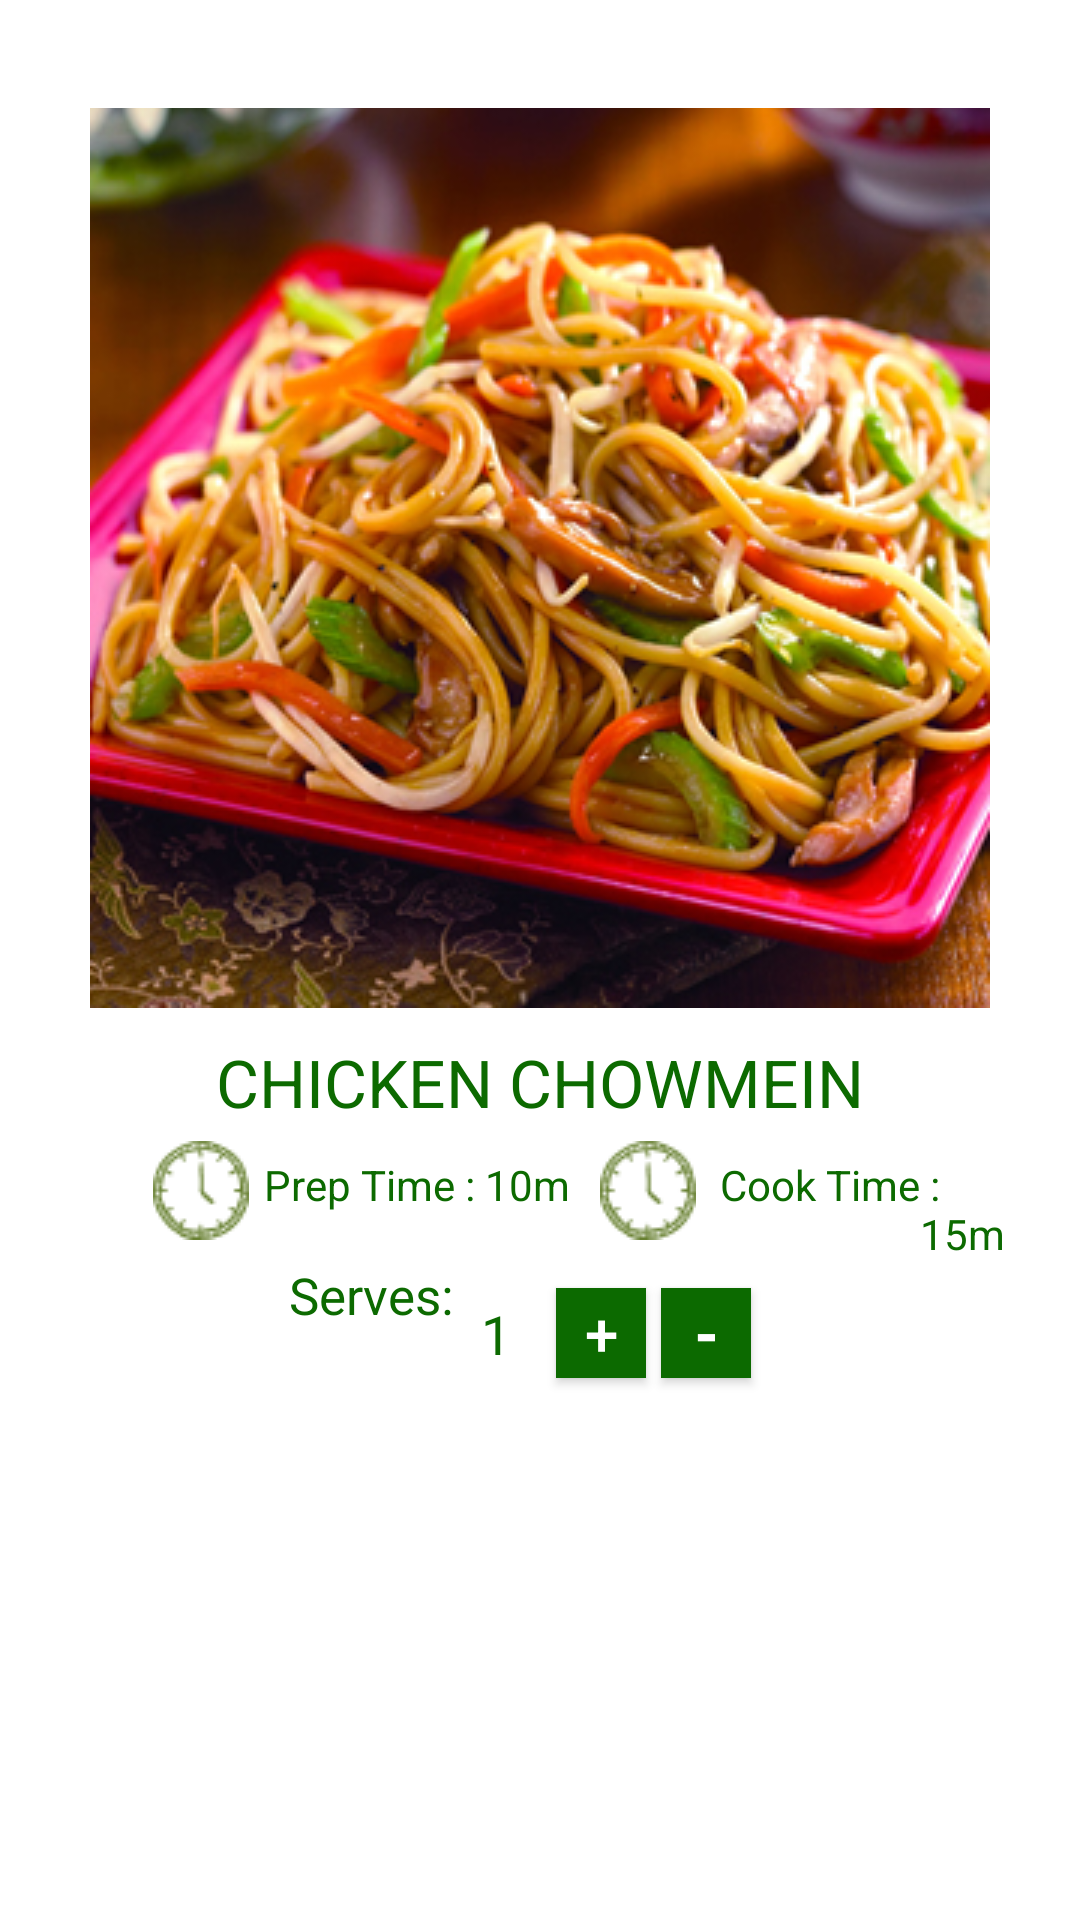

Point at icon controls on the screen. Image size 1080*1920, points as (x,y).
clock: (201,1190), (648,1190)
